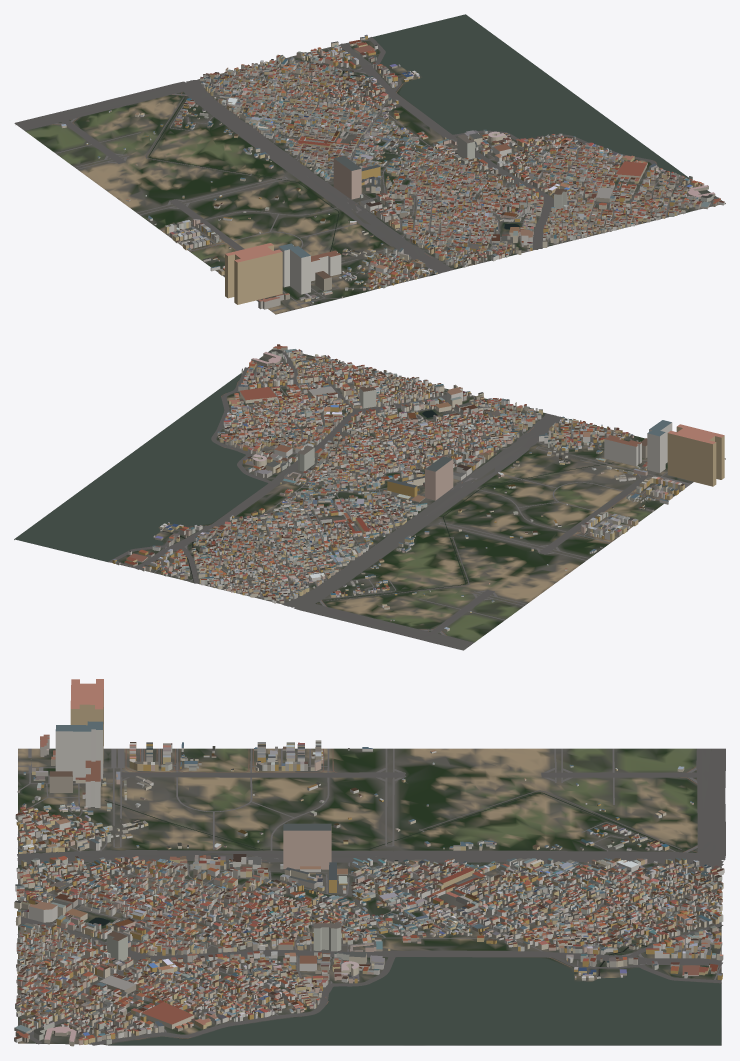
3 views of the same model, one above another, from view 1: azimuth 30°, elevation 25°; view 2: azimuth 150°, elevation 25°; view 3: azimuth 270°, elevation 25° (orthographic). The views are drawn at different scales.
Visible parts, largest first — view 1: buildings, ground, water, roads; view 2: buildings, ground, water, roads; view 3: buildings, ground, water, roads.
Part boxes in pixels (x1=…): buildings: x1=61, y1=34, x2=724, y2=309; ground: x1=15, y1=28, x2=725, y2=314; water: x1=148, y1=14, x2=688, y2=275; roads: x1=14, y1=37, x2=718, y2=311; buildings: x1=112, y1=344, x2=724, y2=631; ground: x1=14, y1=348, x2=725, y2=646; water: x1=15, y1=373, x2=647, y2=600; roads: x1=108, y1=351, x2=690, y2=650; buildings: x1=14, y1=679, x2=724, y2=1046; ground: x1=18, y1=748, x2=721, y2=1045; water: x1=18, y1=758, x2=721, y2=1044; roads: x1=15, y1=748, x2=725, y2=1045.
Size of the model in its own units: 1467 by 129 by 1418.
